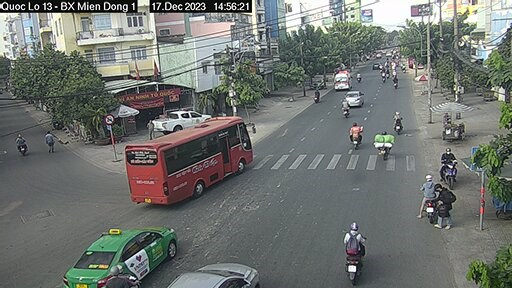car: (103, 117, 282, 205), (85, 211, 182, 278), (123, 247, 261, 288), (142, 104, 220, 130), (344, 90, 367, 107)
motorbike: (338, 215, 371, 270), (365, 126, 391, 162), (343, 118, 363, 150), (383, 111, 404, 138)
